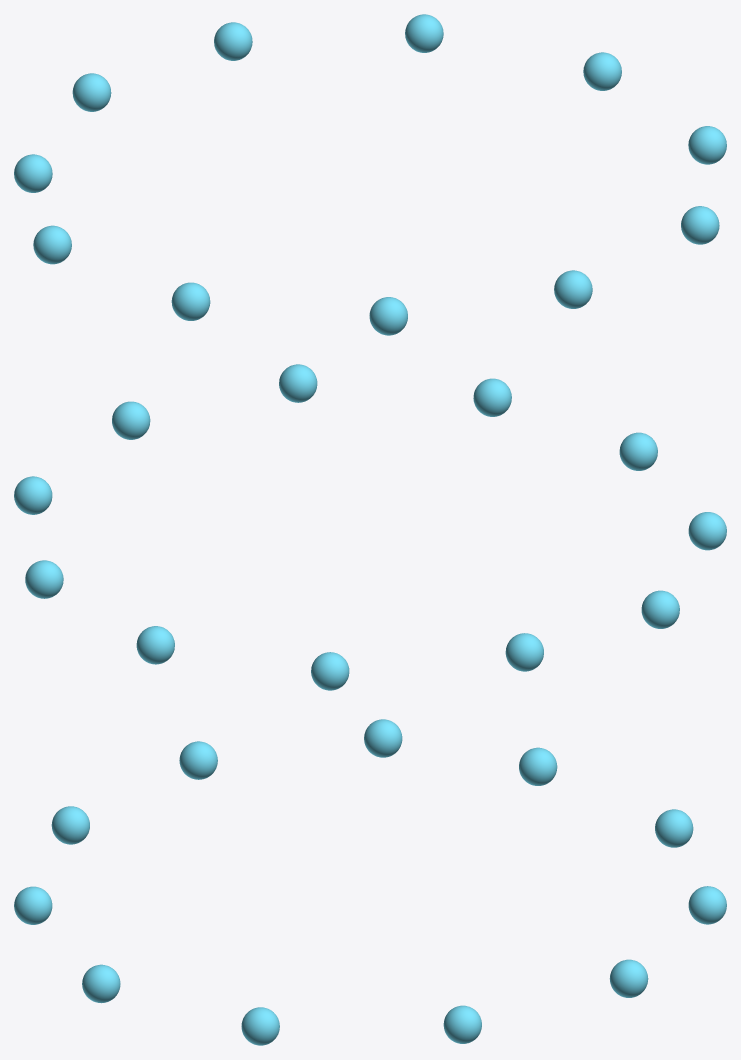
The picture shows the model from 3 angles, top to bottom: view 1: azimuth 30°, elevation 25°; view 2: azimuth 150°, elevation 25°; view 3: azimuth 270°, elevation 25°; orthographic projection.
Visible parts, largest first — view 1: Sphere049; view 2: Sphere049; view 3: Sphere049.
Boxes of the visible parts, left/top/right/bottom form: Sphere049: left=14, top=14, right=726, bottom=335; Sphere049: left=14, top=364, right=726, bottom=690; Sphere049: left=14, top=719, right=726, bottom=1045.
Bounding box in the file's own units: 154 × 8.22 × 152.
